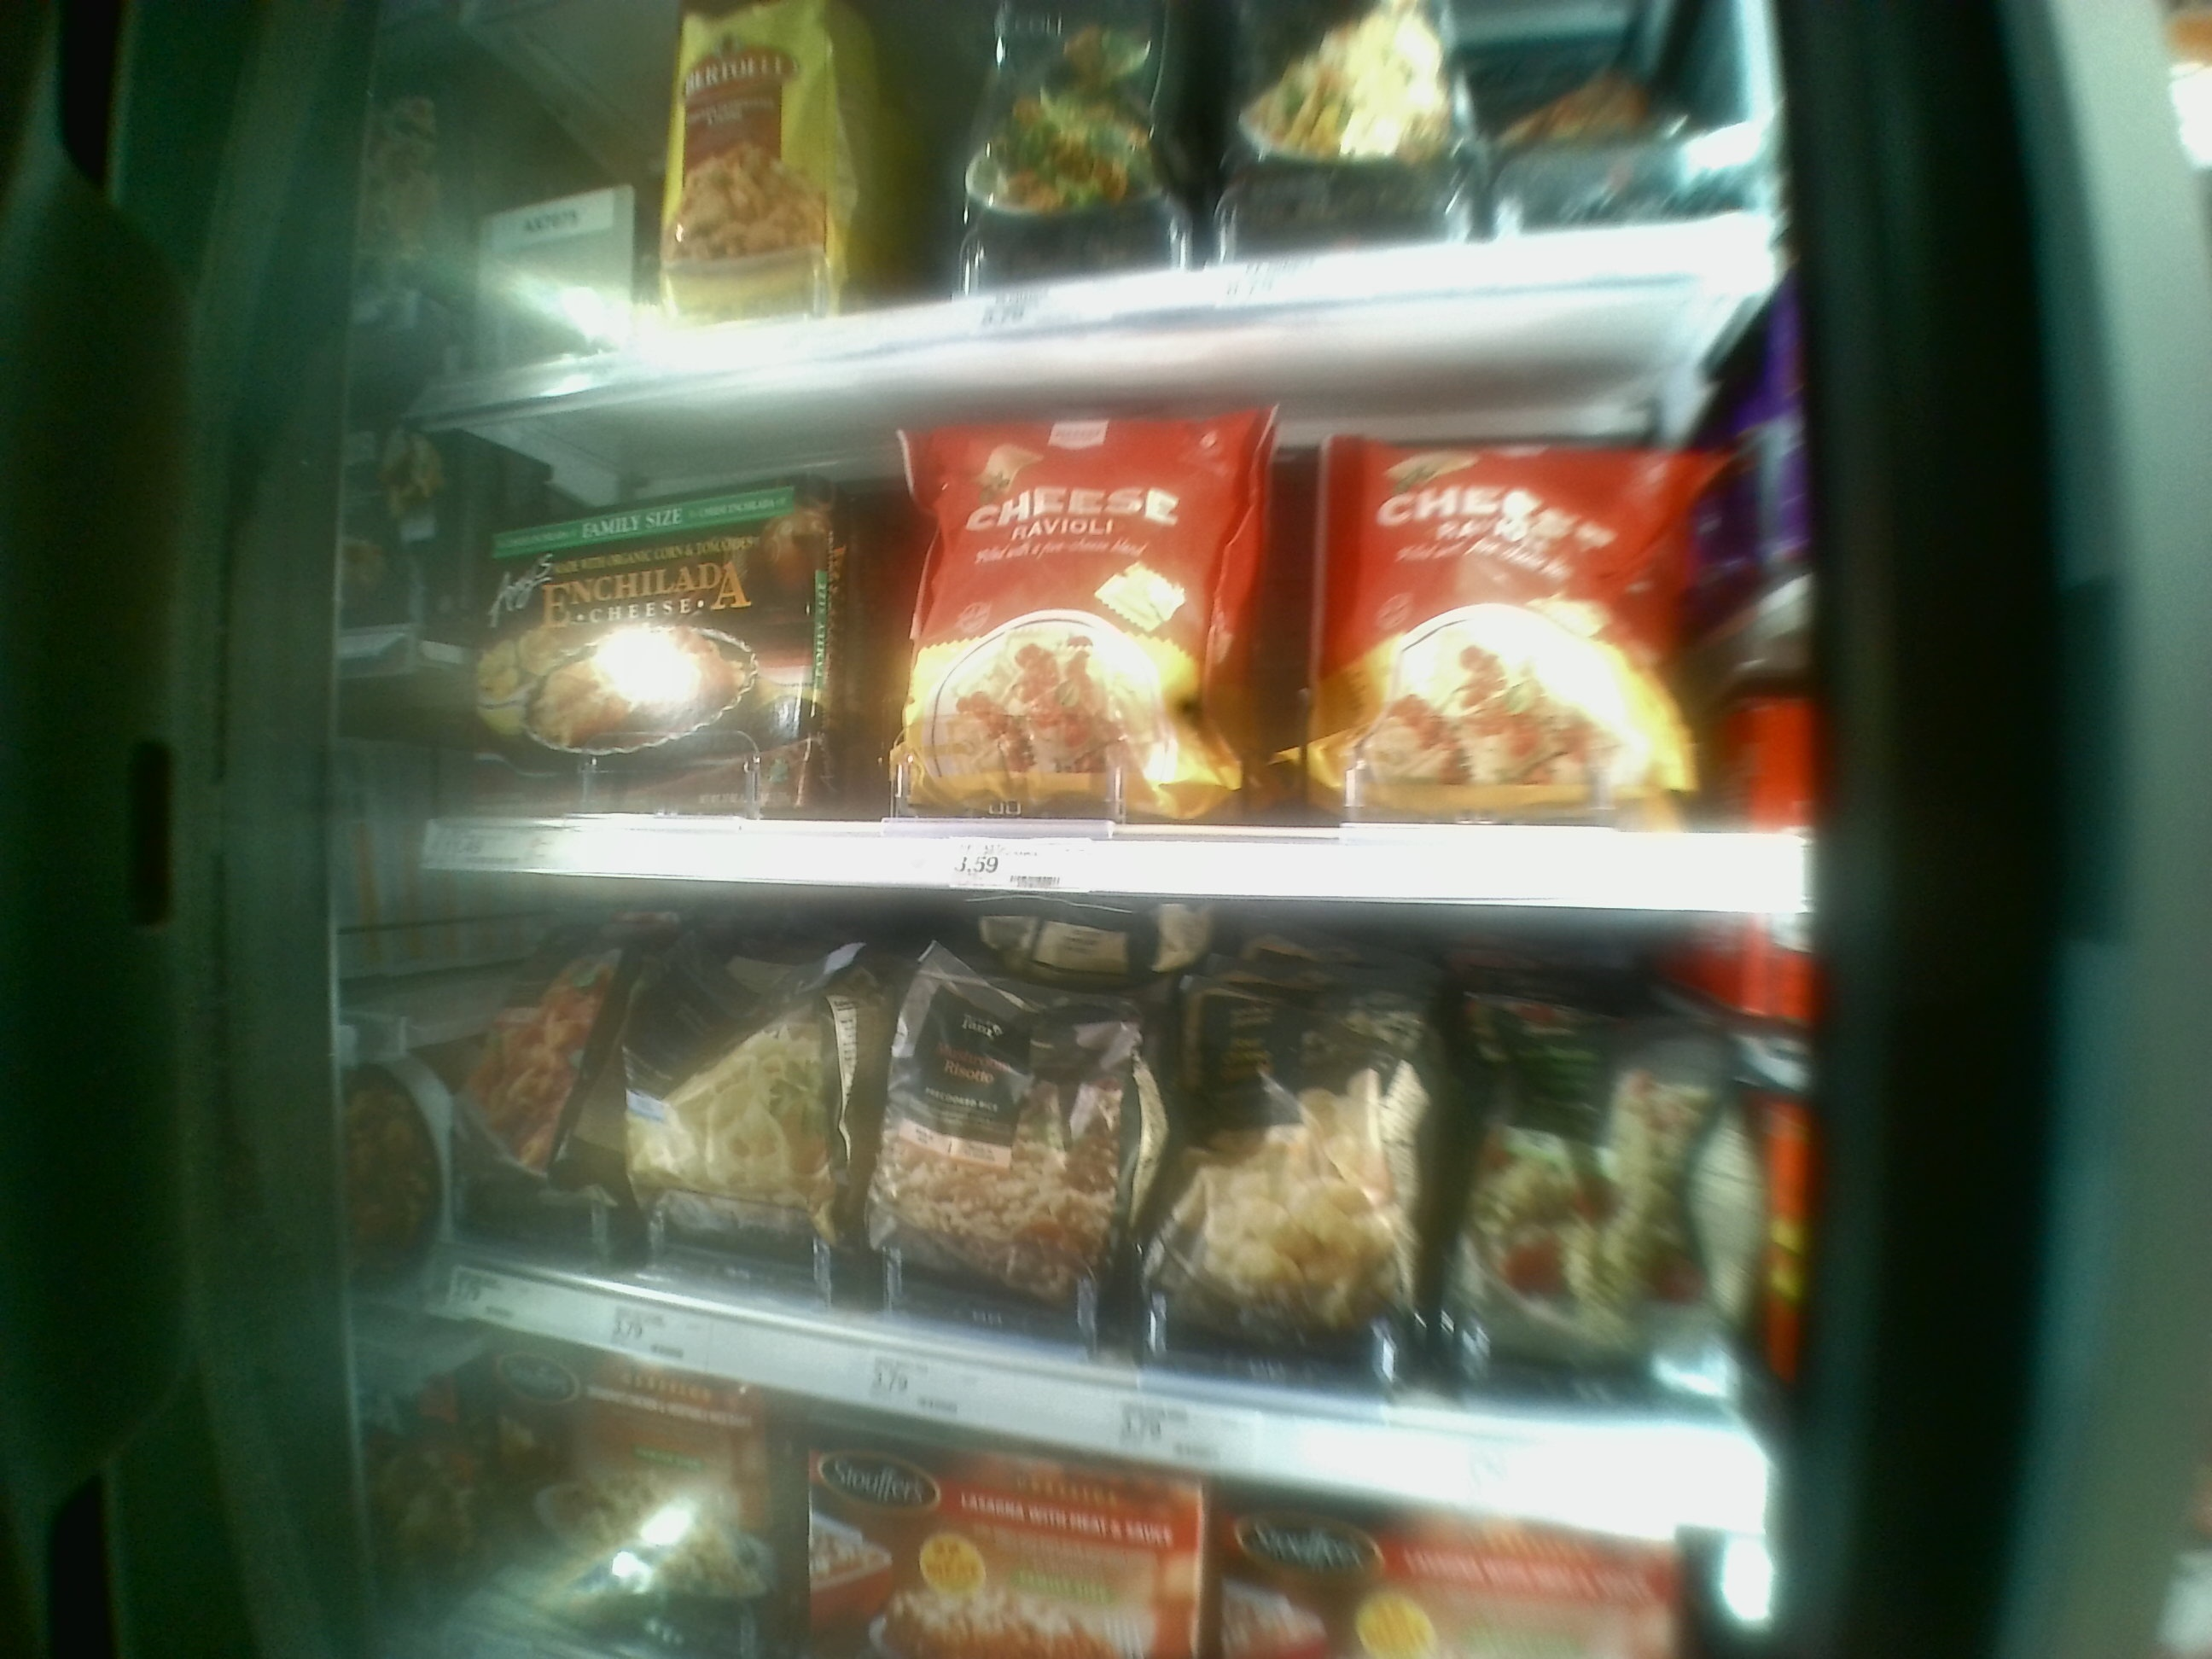shelf: (428, 282, 1789, 913)
